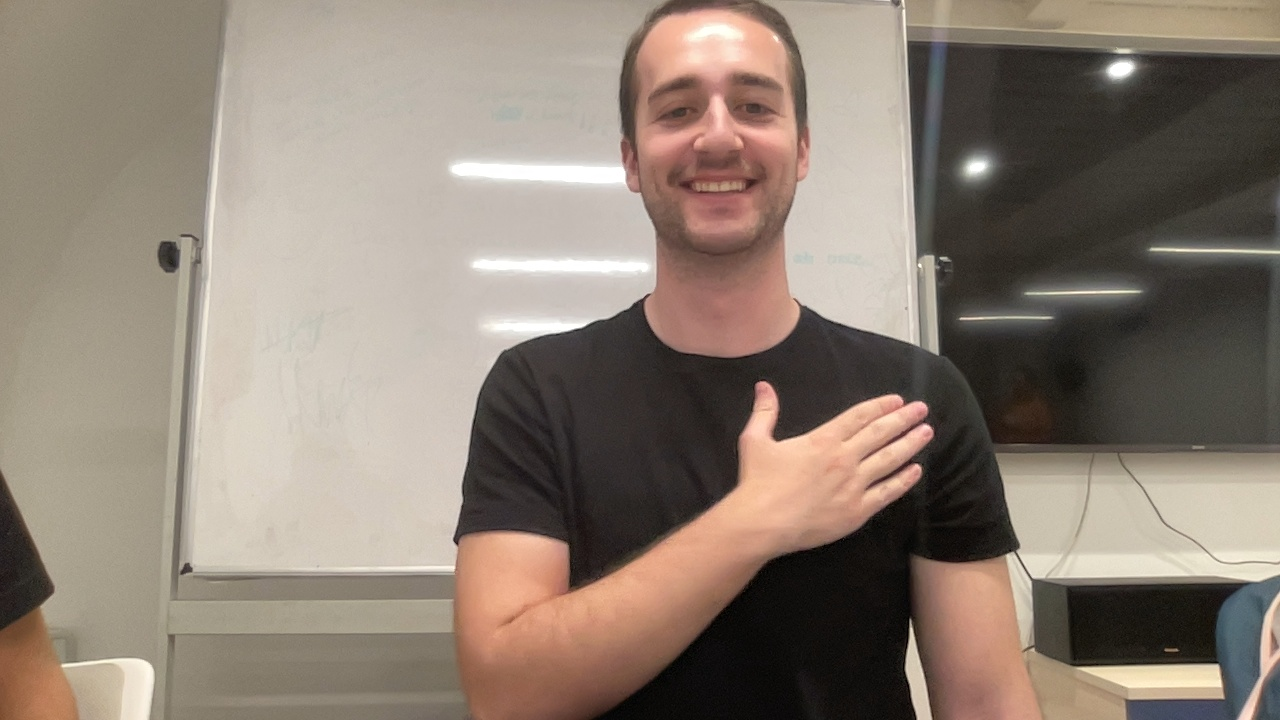Please: (445, 376, 939, 720)
